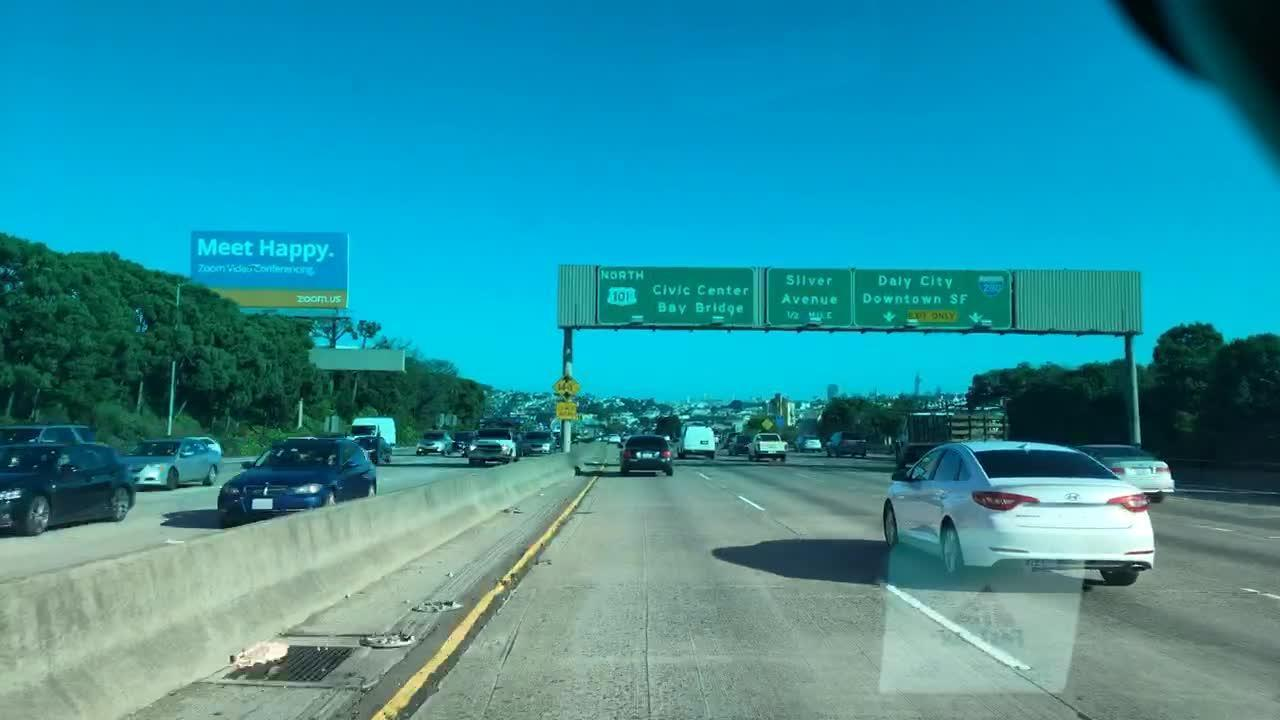Hyundai: (1060, 487, 1081, 506)
